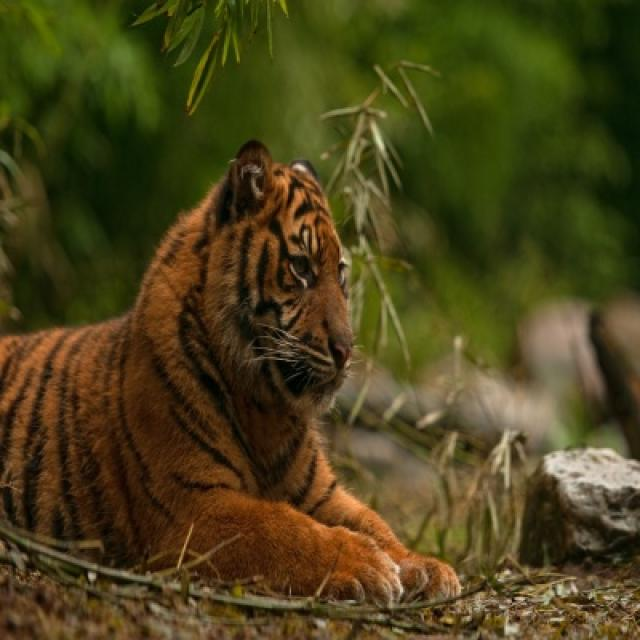Tiger: (0, 148, 463, 608)
